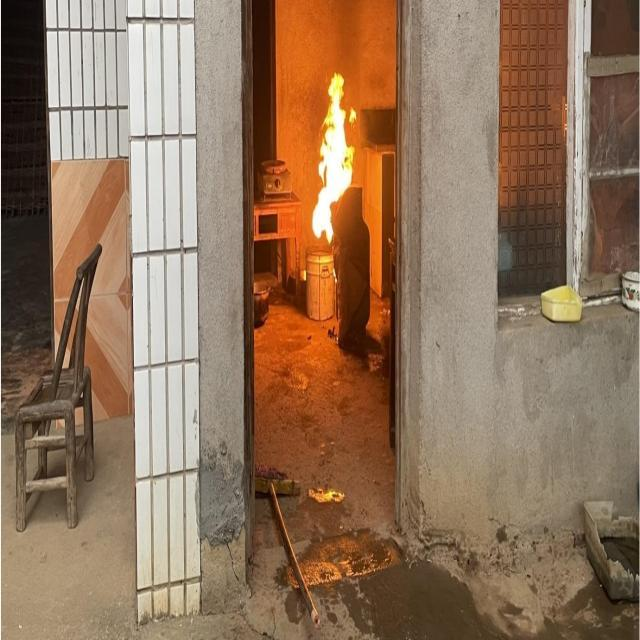Fire: (311, 69, 357, 245)
